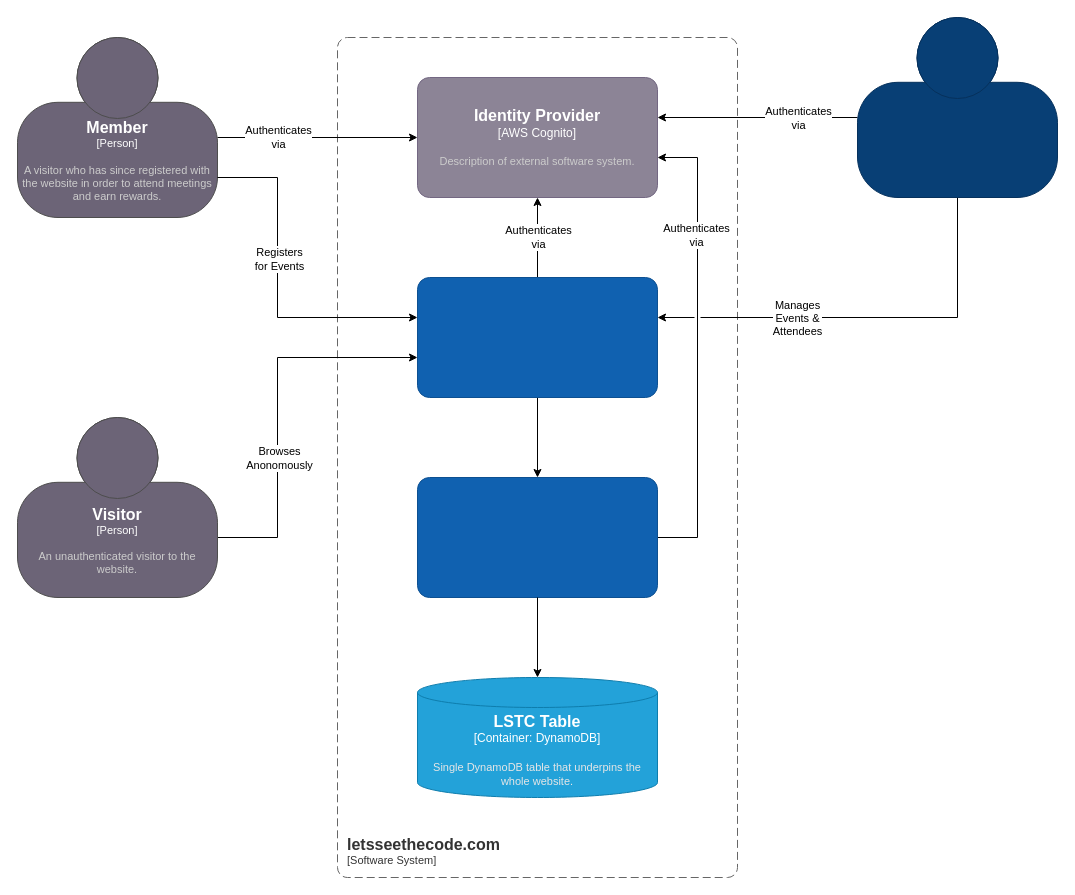
Image size: 1075x895. Some labels were removed from this diagram. The centre of each missing label's shape, as x and y in pixels:
"Administrator [Person] A member of the LSTC team." belongs at point (957, 107).
"LSTC API [Software System] Backend API, hosted in AWS ECS" belongs at point (537, 537).
"LSTC Website [RUST WebASM] Rust WebAssembly hosted from S3 bucket." belongs at point (537, 337).
